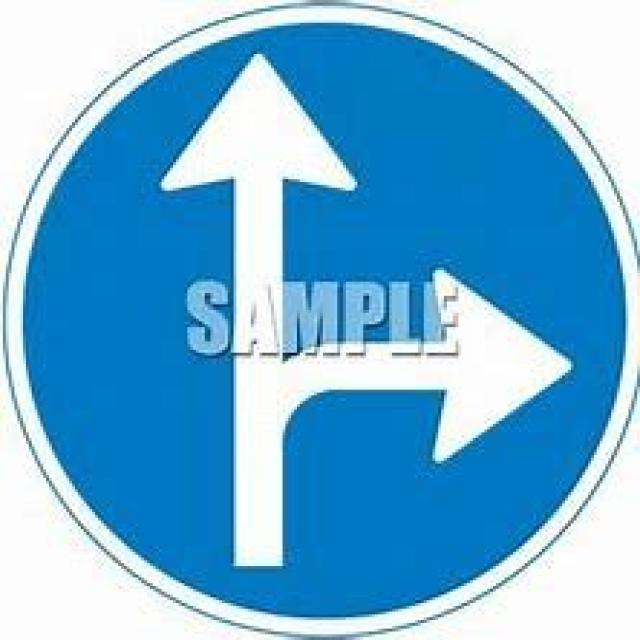compulsory_ahead_or_left: (0, 3, 637, 637)
